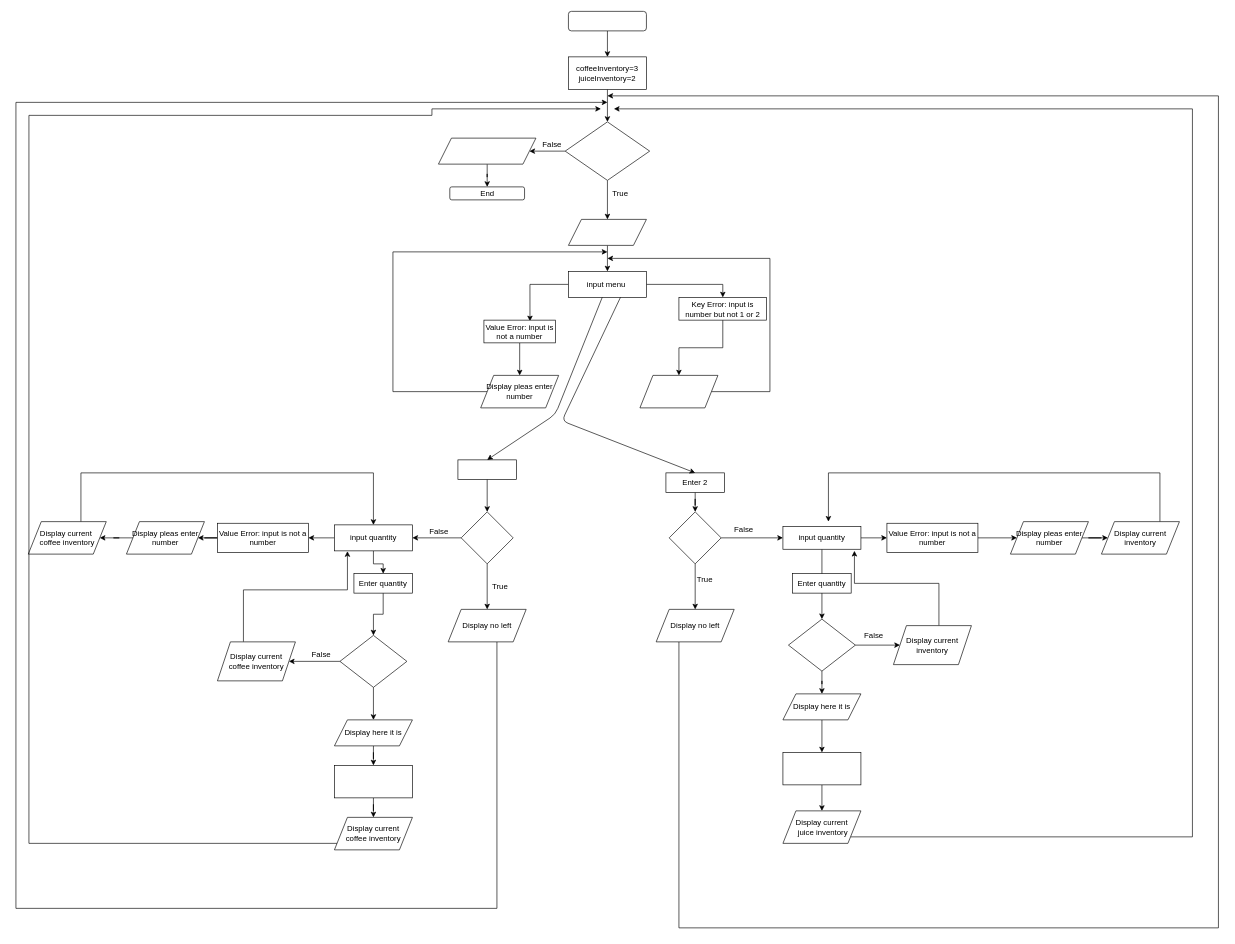
Some shapes in this 1235 by 944 pixel diagram are drawn without their labels. The centre of each missing label's shape, as x and y in pixels:
"coffeeInventory -= coffeeQuantity" belongs at (x=373, y=781).
"coffeeInventory=0" belongs at (x=487, y=537).
"coffeeInventory>0 or juiceInventory>0" belongs at (x=607, y=150).
"coffeeQuantity <=coffeeInventory" belongs at (x=373, y=661).
"Display All sold out" belongs at (x=487, y=150).
"Display menu" belongs at (x=607, y=232).
"Display pleas enter number 1 or 2" belongs at (x=678, y=391).
"Enter 1" belongs at (x=486, y=469).
"juiceInventory -= juiceQuantity" belongs at (x=821, y=768).
"juiceInventory=0" belongs at (x=695, y=537).
"juiceQuantity <=juiceInventory" belongs at (x=821, y=644).
"Start" belongs at (x=607, y=21).
